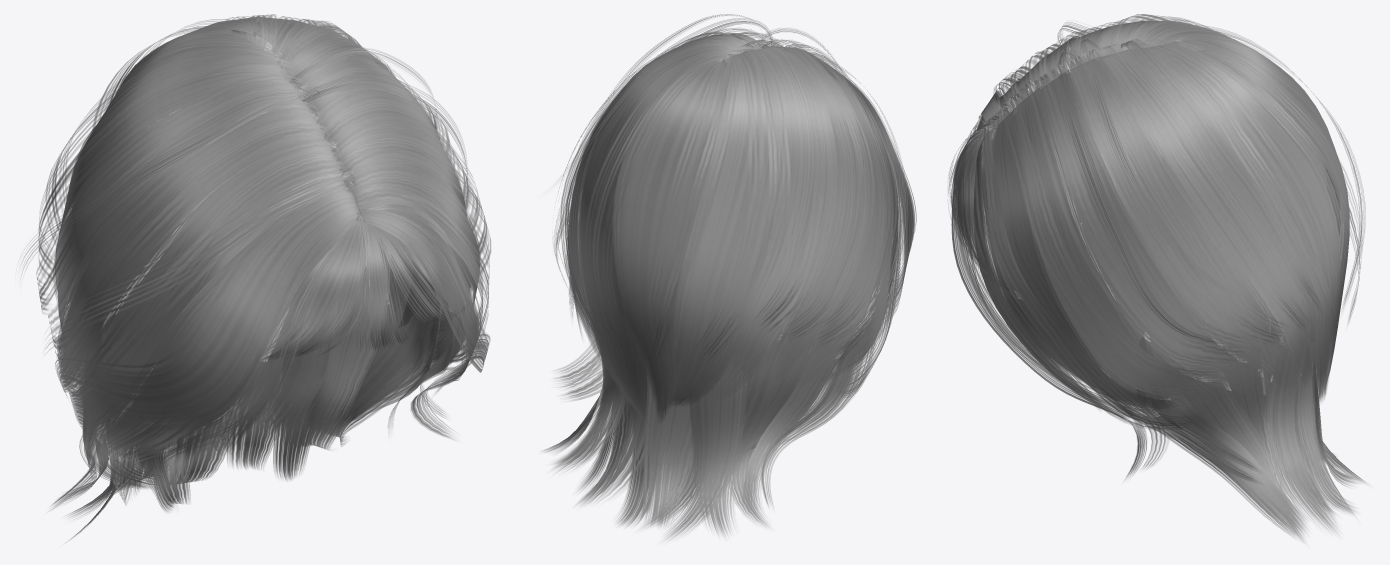
The model's file is Hair3.glb.
The picture shows the model from 3 angles, left to right: view 1: azimuth 30°, elevation 25°; view 2: azimuth 150°, elevation 25°; view 3: azimuth 270°, elevation 25°; orthographic projection. The views are drawn at different scales.
Visible parts, largest first — view 1: Object_9.001; view 2: Object_9.001; view 3: Object_9.001.
Boxes of the visible parts, <box> form: Object_9.001: <box>21,14,490,541</box>; Object_9.001: <box>543,14,916,540</box>; Object_9.001: <box>947,14,1367,543</box>.
Bounding box in the file's own units: 0.5817 × 0.7507 × 0.5995.
3 materials, 3 textured.
